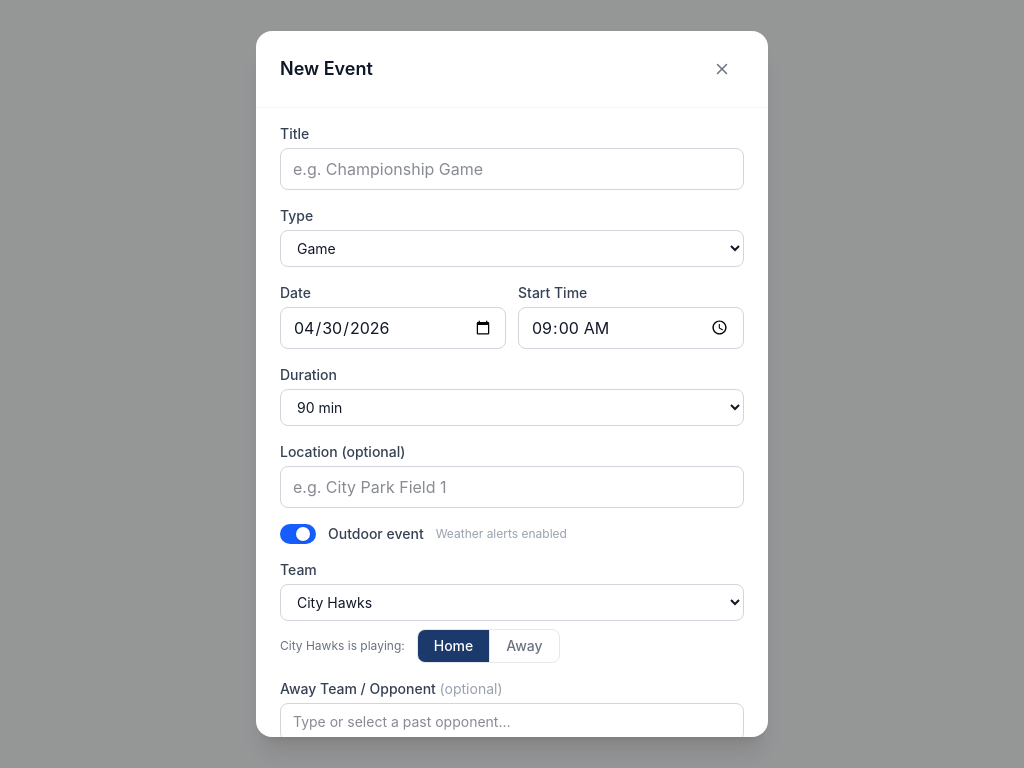
it: EventForm — required field validation › shows date required error when date field is cleared and form submitted
Clear the date field (it has a default value)
Step 1. Clear the date field labelled "Date" → (393, 328), box [280, 307, 506, 349]
(page scrolled)
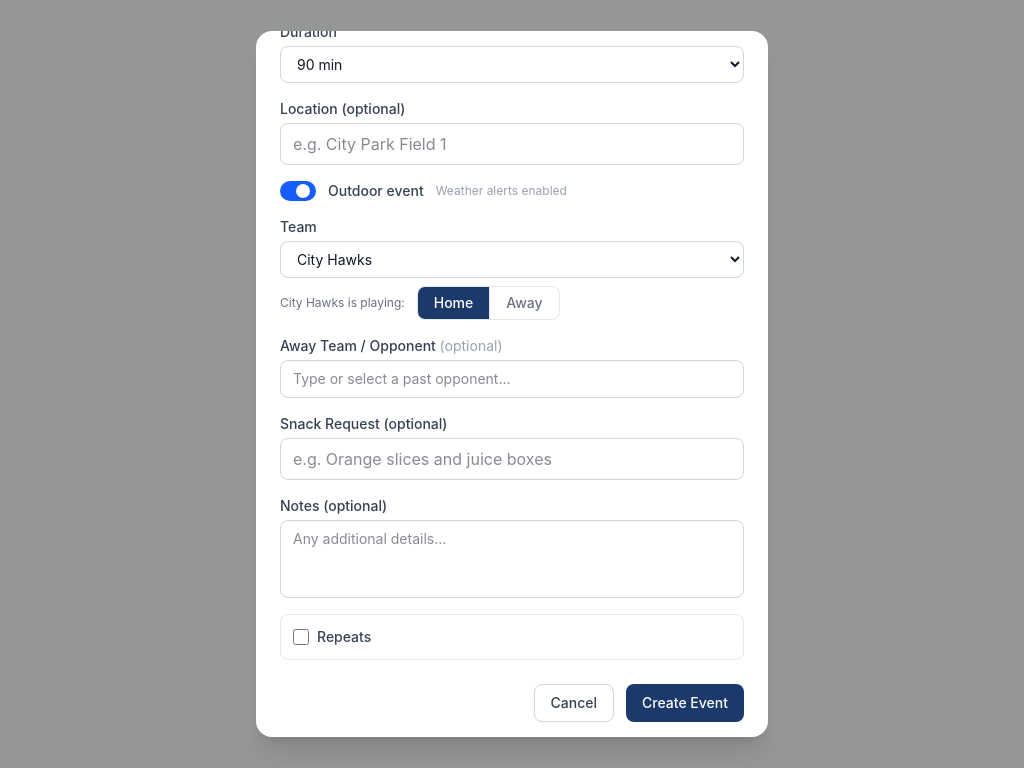
Step 2. Click the button "Create Event" → (685, 703), box [626, 684, 744, 722]
(page scrolled)
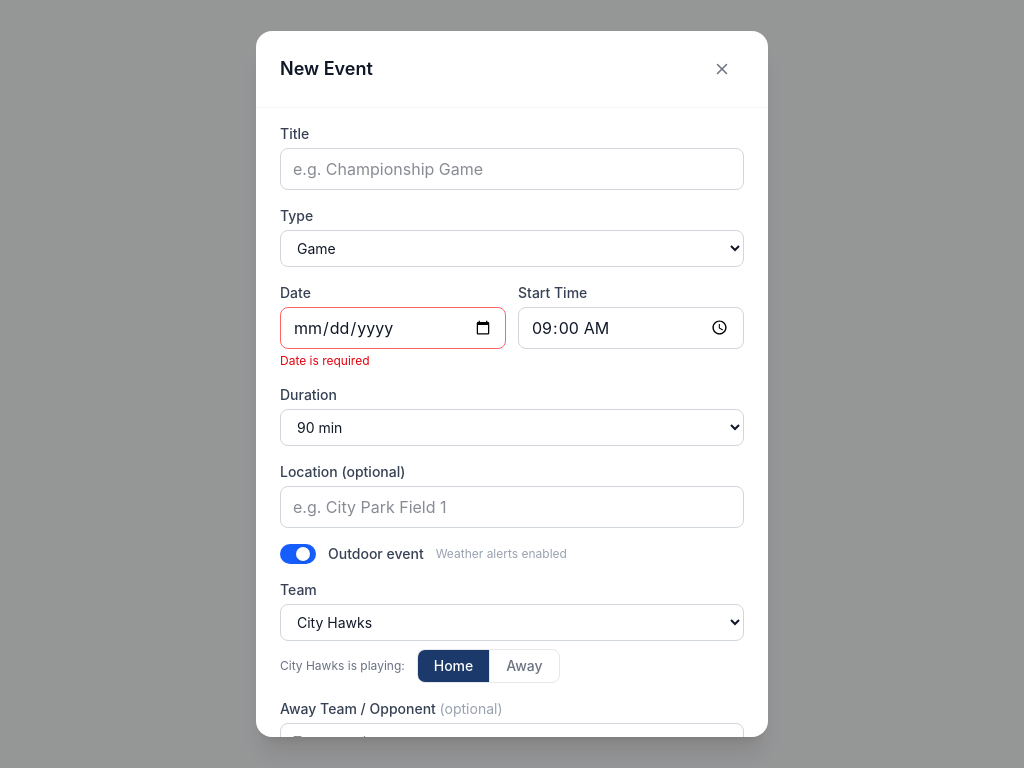
Now the text "Date is required" is shown, box [280, 353, 370, 368]
